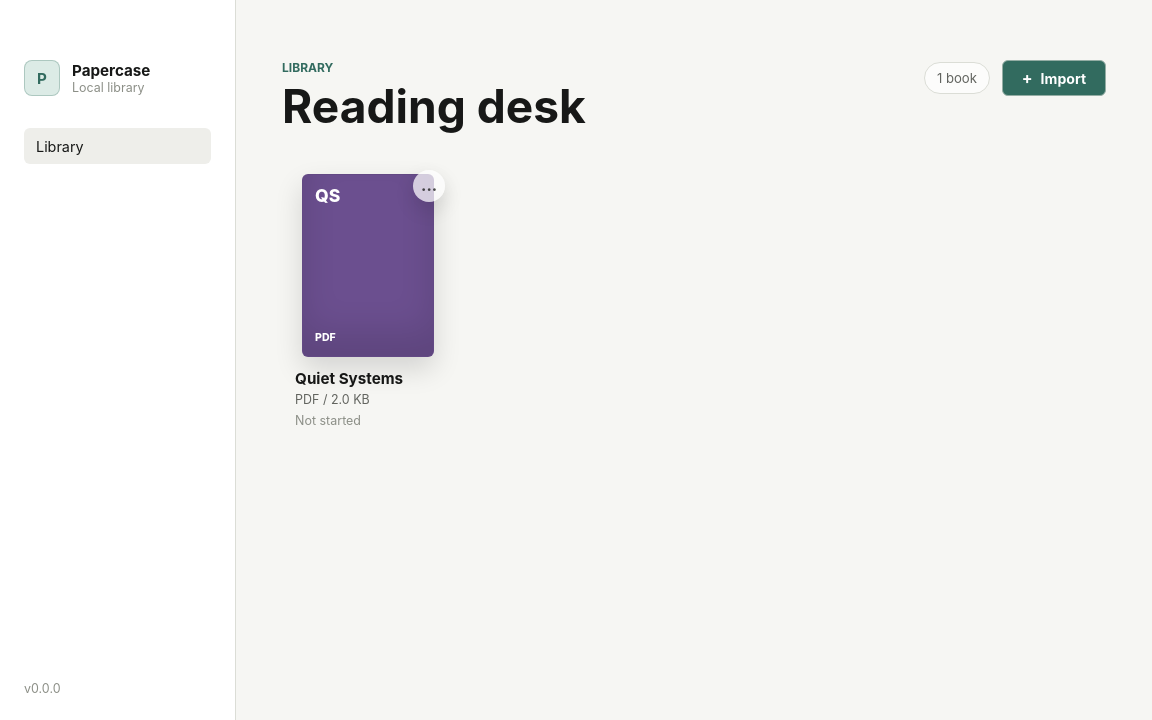
Test case: App › shows saved bookmarks and deletes them from the reader panel
Click the button with aria-label "Open Quiet Systems" at (368, 302), box x1=295 y1=174 x2=441 y2=430
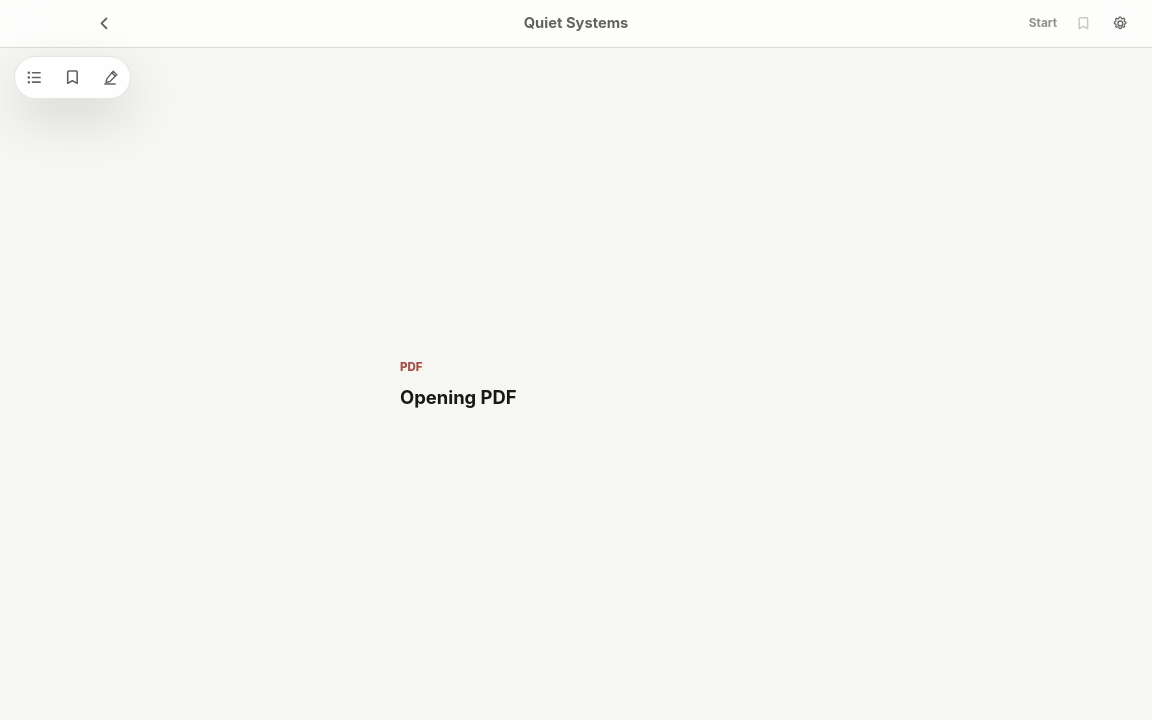
Click the button named "Show bookmarks" at (72, 77), box x1=56 y1=60 x2=89 y2=94
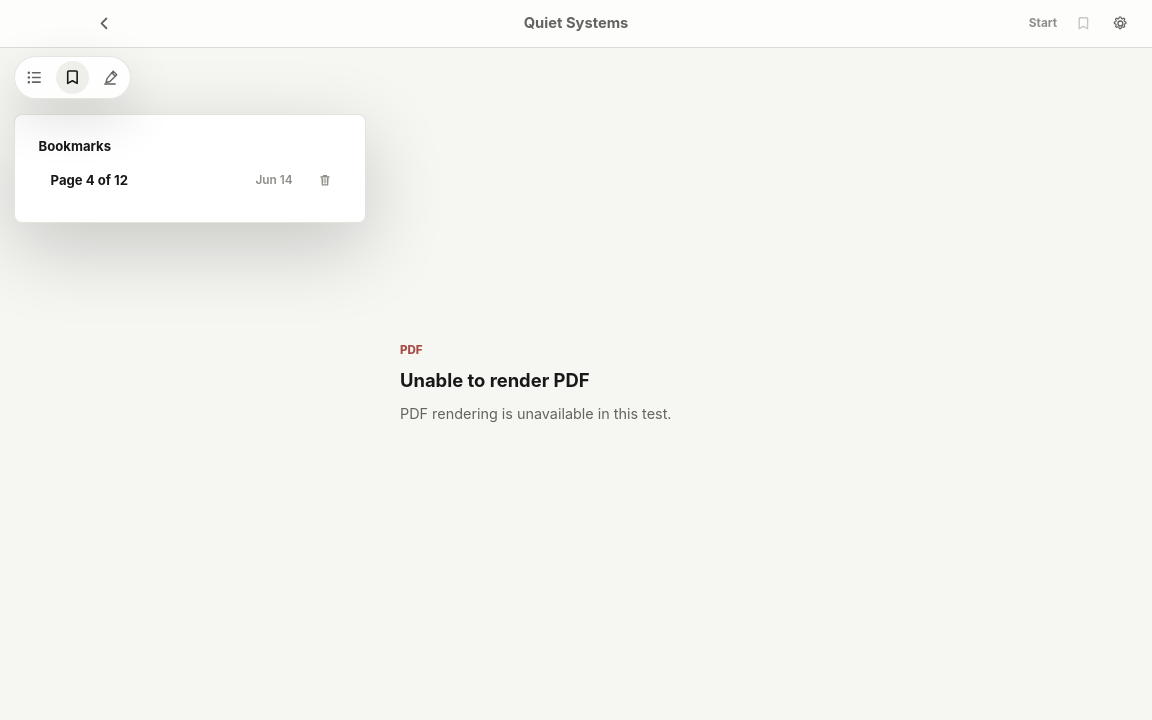
Now the text "Page 4 of 12" is shown, box x1=51 y1=172 x2=128 y2=188
Click the button named "Delete bookmark Page 4 of 12" at (325, 180), box x1=309 y1=164 x2=341 y2=196
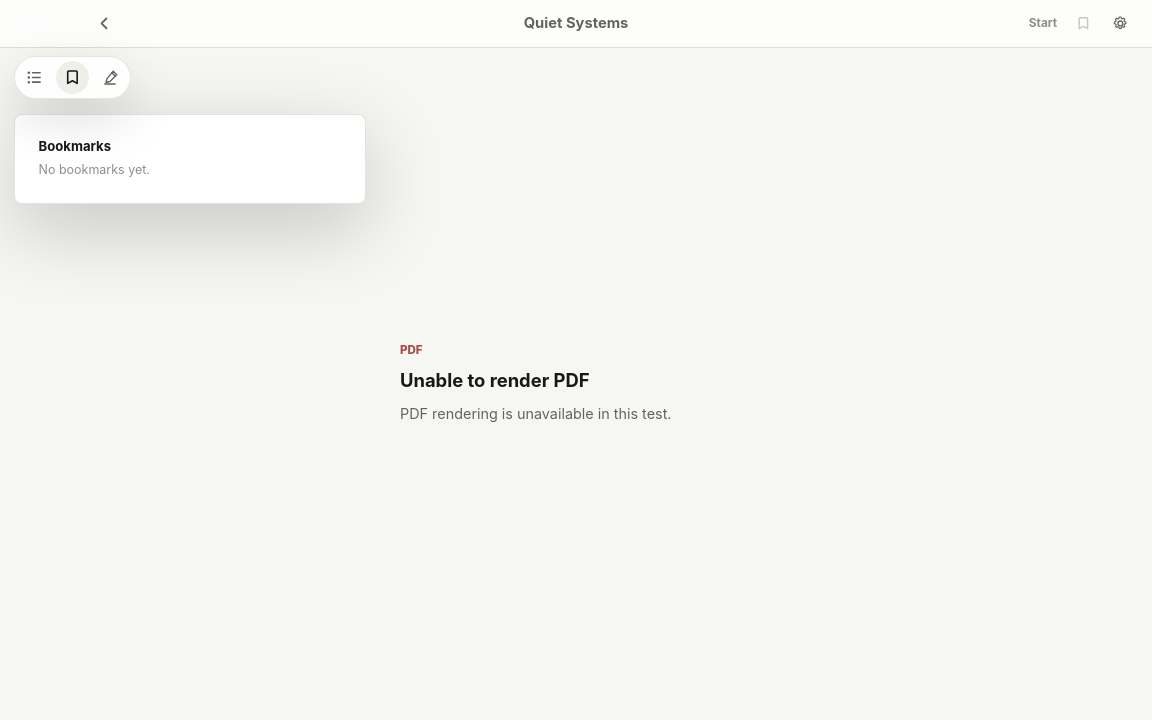
Now the button "Page 4 of 12" is gone
Now the text "No bookmarks yet." is shown, box x1=39 y1=162 x2=150 y2=177
